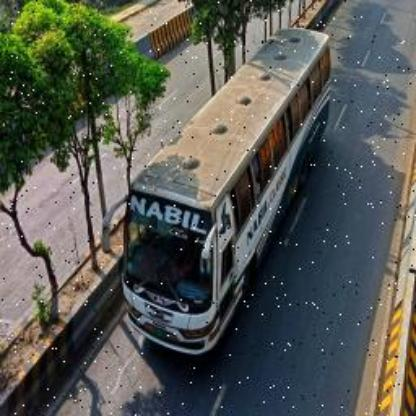bus: (98, 23, 335, 364)
